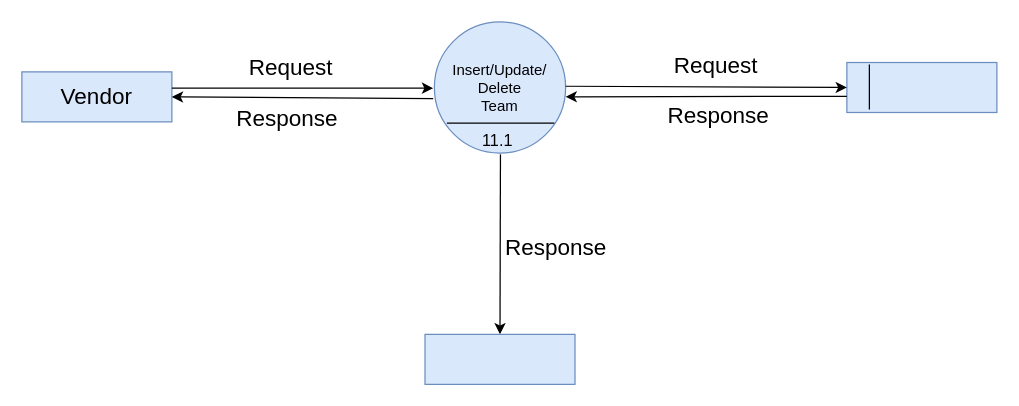
This 1019x406 diagram has some shape labels left out. Here are the shapes that lost their labels. From the top down, the centre of each, then its label:
At (921,86): "Team".
At (499,358): "User".
